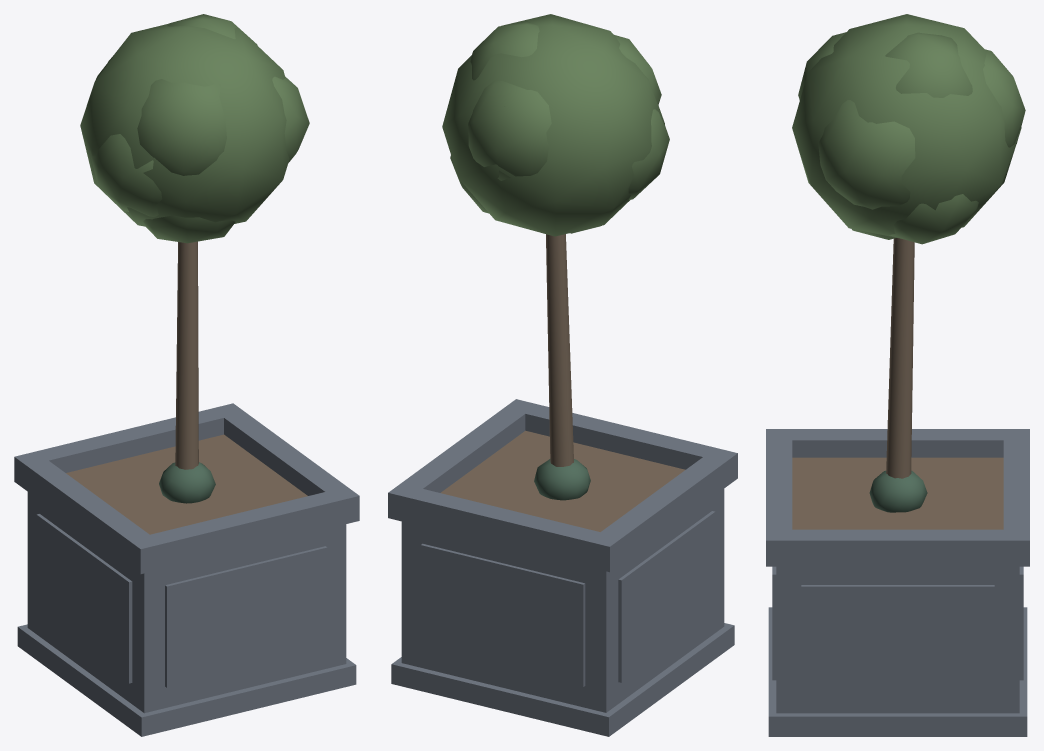
The model's file is NPR_07_2022__MOD__VegetationElements__Topiary__PottedStandard__Var-02__.glb.
3 renders of one model, left to right at view 1: azimuth 30°, elevation 25°; view 2: azimuth 150°, elevation 25°; view 3: azimuth 270°, elevation 25°, orthographic. The views are drawn at different scales.
Visible parts, largest first — view 1: NPR_07_2022__MOD__VegetationElements__Topiary__PottedStandar; view 2: NPR_07_2022__MOD__VegetationElements__Topiary__PottedStandar; view 3: NPR_07_2022__MOD__VegetationElements__Topiary__PottedStandar.
Boxes of the visible parts, x1,y1,x2,y2 form: NPR_07_2022__MOD__VegetationElements__Topiary__PottedStandar: (14,14,359,736); NPR_07_2022__MOD__VegetationElements__Topiary__PottedStandar: (388,14,737,736); NPR_07_2022__MOD__VegetationElements__Topiary__PottedStandar: (766,14,1029,736).
Size of the model in its own units: 0.412 by 1.14 by 0.412.
